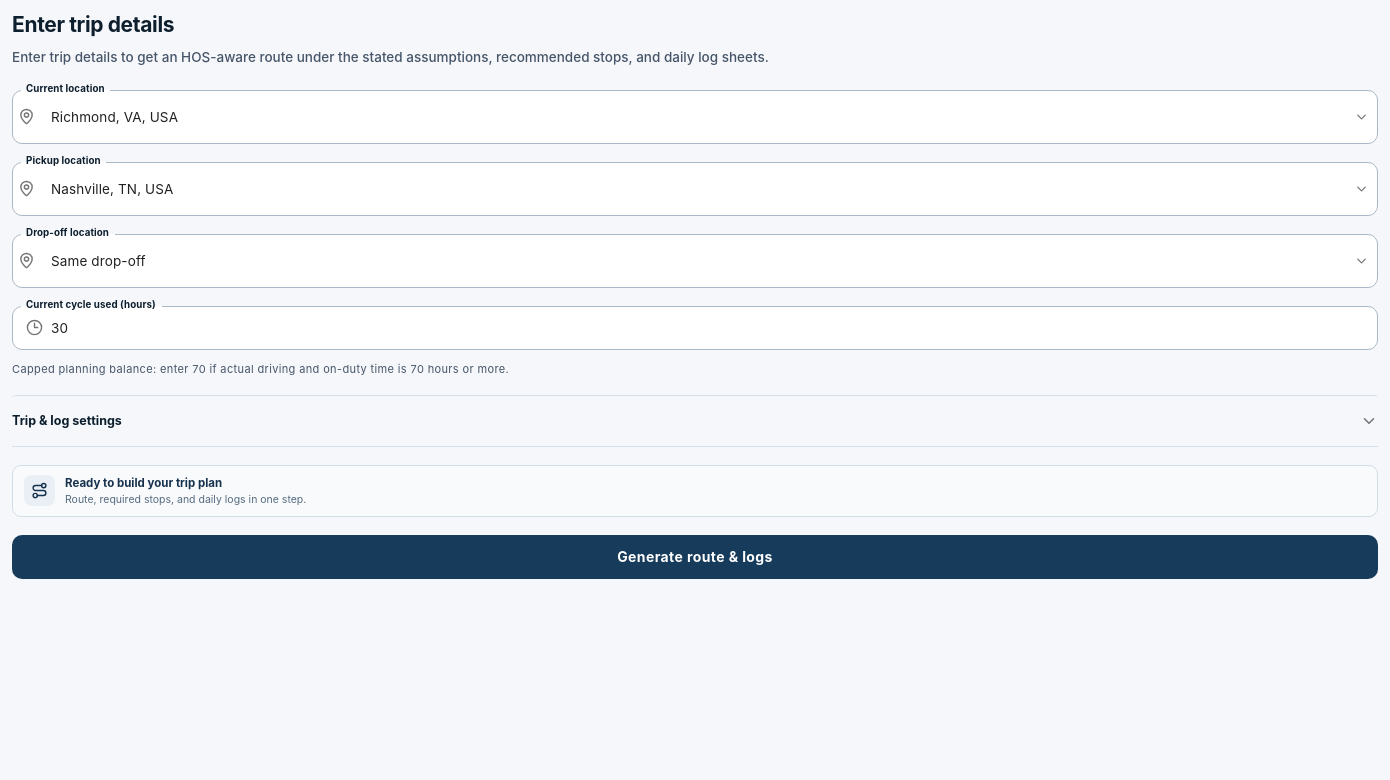
Test: TripForm › rejects duplicate coordinates for pickup and drop-off
This screenshot has width=1390, height=780.
What coordinates should you click on to do the following:
click the button "Generate route & logs"
I would click on:
 (695, 557)
Its box is x1=12 y1=535 x2=1378 y2=579.
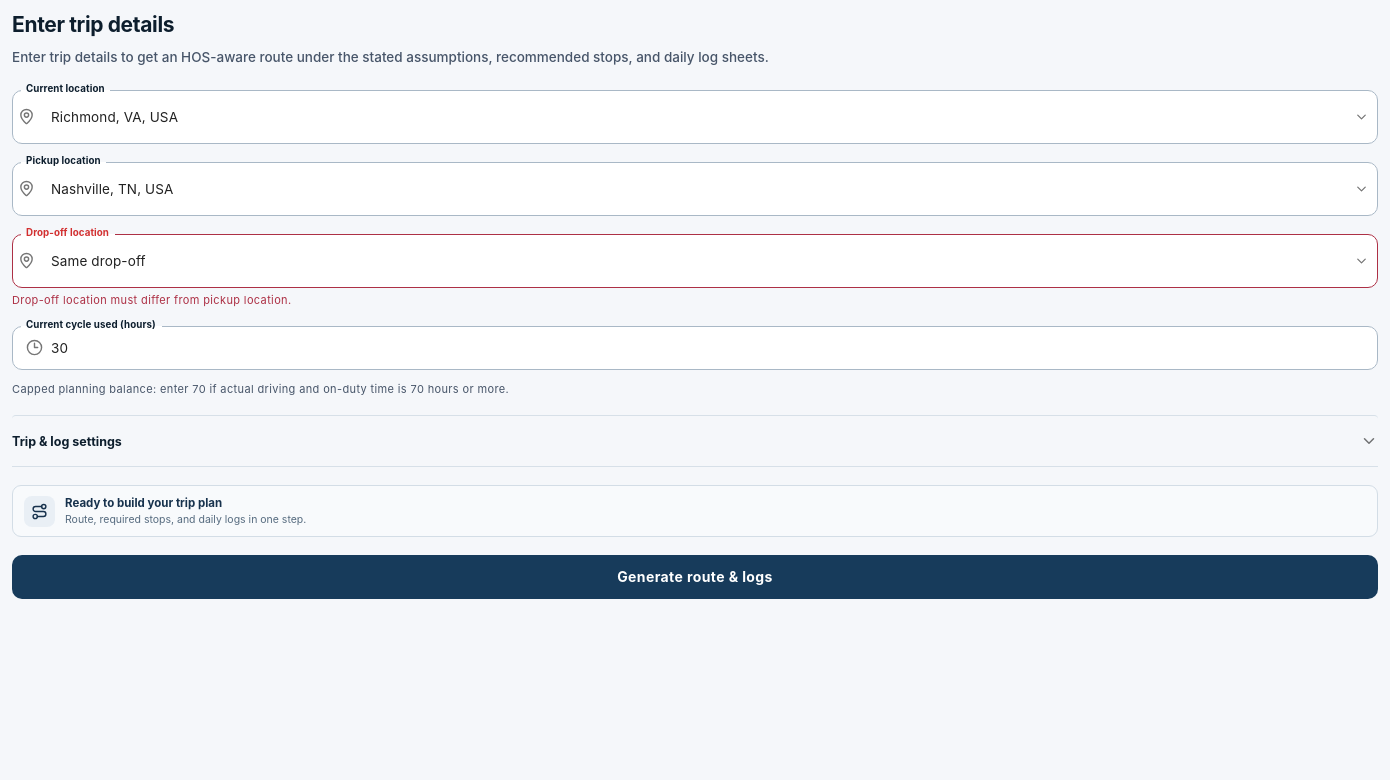
Result: the message reads "Drop-off location must differ from pickup location." at x1=12 y1=292 x2=292 y2=306
